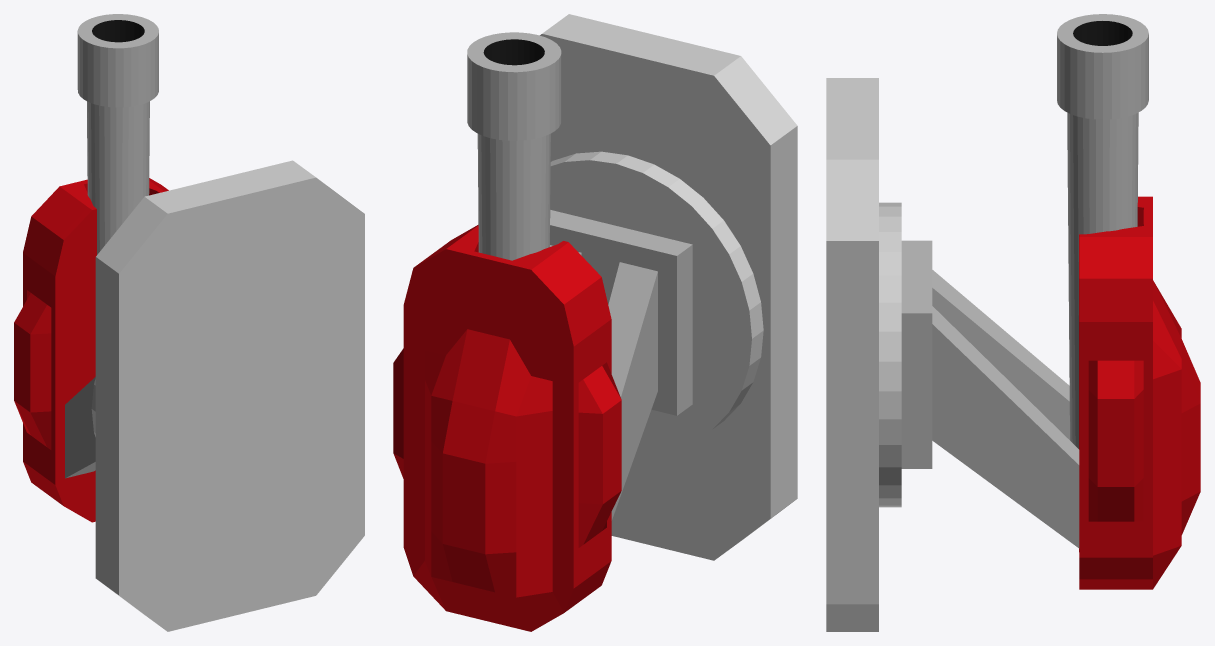
Rendered from AllgearBasic.fbx.
The picture shows the model from 3 angles, left to right: view 1: azimuth 30°, elevation 25°; view 2: azimuth 150°, elevation 25°; view 3: azimuth 270°, elevation 25°; orthographic projection. The views are drawn at different scales.
Visible parts, largest first — view 1: Cube; view 2: Cube; view 3: Cube.
Boxes of the visible parts, x1,y1,x2,y2 form: Cube: [14, 14, 364, 631]; Cube: [393, 14, 797, 631]; Cube: [826, 14, 1200, 631].
Size of the model in its own units: 210 by 403 by 246.
